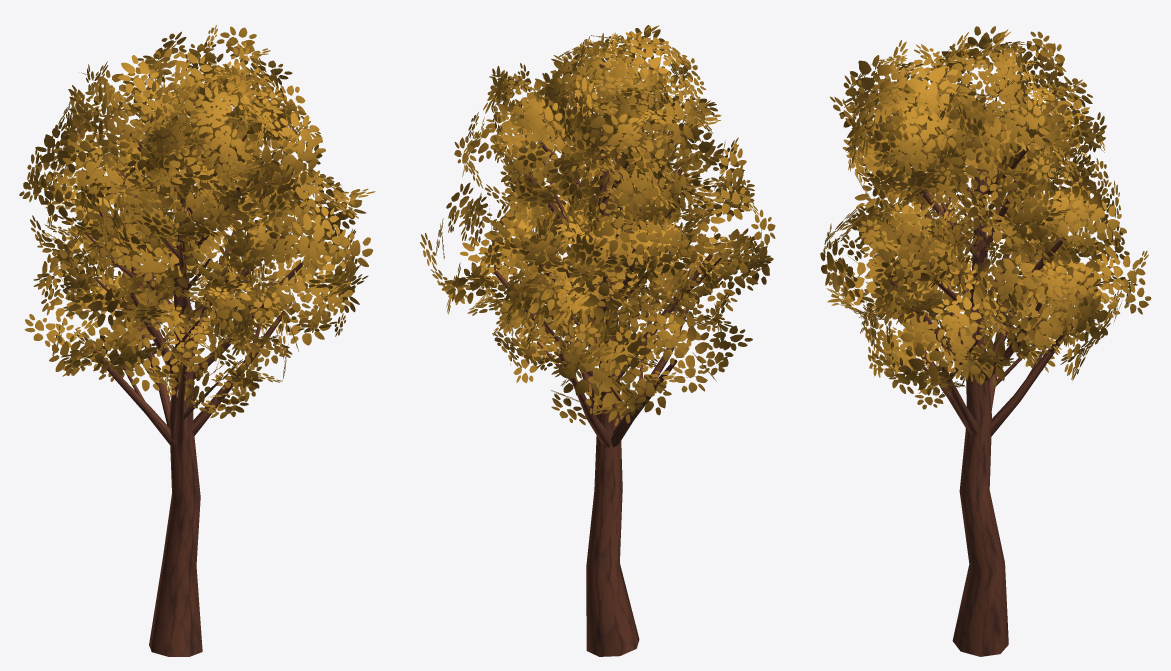
File: fruit_tree_autumn.gltf
The picture shows the model from 3 angles, left to right: view 1: azimuth 30°, elevation 25°; view 2: azimuth 150°, elevation 25°; view 3: azimuth 270°, elevation 25°; orthographic projection. The views are drawn at different scales.
Visible parts, largest first — view 1: fruit_tree_autumn; view 2: fruit_tree_autumn; view 3: fruit_tree_autumn.
Boxes of the visible parts, x1,y1,x2,y2 form: fruit_tree_autumn: (19, 25, 375, 656); fruit_tree_autumn: (420, 25, 775, 656); fruit_tree_autumn: (820, 26, 1151, 656).
Size of the model in its own units: 5.18 by 9.42 by 4.74.
Materials: 2 (2 with a texture image).
